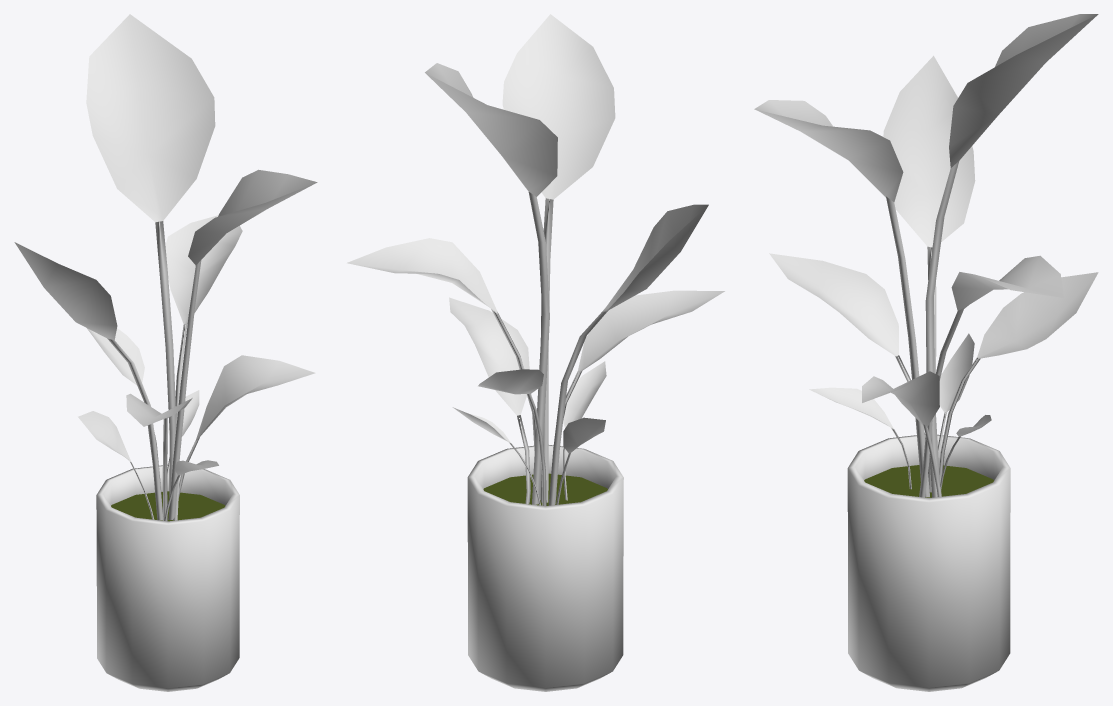
The model's file is Plant.fbx.
3 views of the same model, side by side, from view 1: azimuth 30°, elevation 25°; view 2: azimuth 150°, elevation 25°; view 3: azimuth 270°, elevation 25° (orthographic). The views are drawn at different scales.
Parts seen in each view (by area): view 1: Cube.002_0, Plane.003_5, Plane.001_3, Plane_1, Plane.010_19, Plane.005_9, Circle_21, Plane.004_7, Plane.006_11, Plane.008_15, Plane.007_13, Plane.009_17; view 2: Cube.002_0, Plane.001_3, Plane.003_5, Plane_1, Plane.010_19, Plane.004_7, Plane.005_9, Circle_21, Plane.006_11, Plane.007_13, Plane.008_15, Plane.009_17; view 3: Cube.002_0, Plane_1, Plane.003_5, Plane.001_3, Plane.004_7, Plane.006_11, Plane.010_19, Plane.005_9, Circle_21, Plane.008_15, Plane.007_13.
Part boxes in pixels (<box>): Cube.002_0: <box>96,464,239,691</box>; Plane.003_5: <box>86,14,215,497</box>; Plane.001_3: <box>168,169,317,519</box>; Plane_1: <box>14,242,162,520</box>; Plane.010_19: <box>165,215,242,520</box>; Plane.005_9: <box>178,355,315,497</box>; Circle_21: <box>111,491,225,521</box>; Plane.004_7: <box>126,393,192,521</box>; Plane.006_11: <box>87,328,162,513</box>; Plane.008_15: <box>78,411,154,519</box>; Plane.007_13: <box>164,460,218,520</box>; Plane.009_17: <box>162,390,199,511</box>; Cube.002_0: <box>467,445,623,691</box>; Plane.001_3: <box>502,14,615,502</box>; Plane.003_5: <box>425,63,557,504</box>; Plane_1: <box>548,204,708,505</box>; Plane.010_19: <box>347,238,540,499</box>; Plane.004_7: <box>555,290,724,501</box>; Plane.005_9: <box>449,297,530,503</box>; Circle_21: <box>483,473,607,505</box>; Plane.006_11: <box>478,369,546,505</box>; Plane.007_13: <box>563,361,606,500</box>; Plane.008_15: <box>556,417,605,504</box>; Plane.009_17: <box>452,407,541,505</box>; Cube.002_0: <box>847,434,1010,691</box>; Plane_1: <box>883,55,975,492</box>; Plane.003_5: <box>925,14,1098,497</box>; Plane.001_3: <box>754,100,929,497</box>; Plane.004_7: <box>769,253,925,438</box>; Plane.006_11: <box>939,272,1098,483</box>; Plane.010_19: <box>919,255,1063,497</box>; Plane.005_9: <box>862,371,941,496</box>; Circle_21: <box>864,465,993,497</box>; Plane.008_15: <box>938,333,974,457</box>; Plane.007_13: <box>809,387,911,489</box>.
Bounding box in the file's own units: 62.01 × 127 × 59.08.
